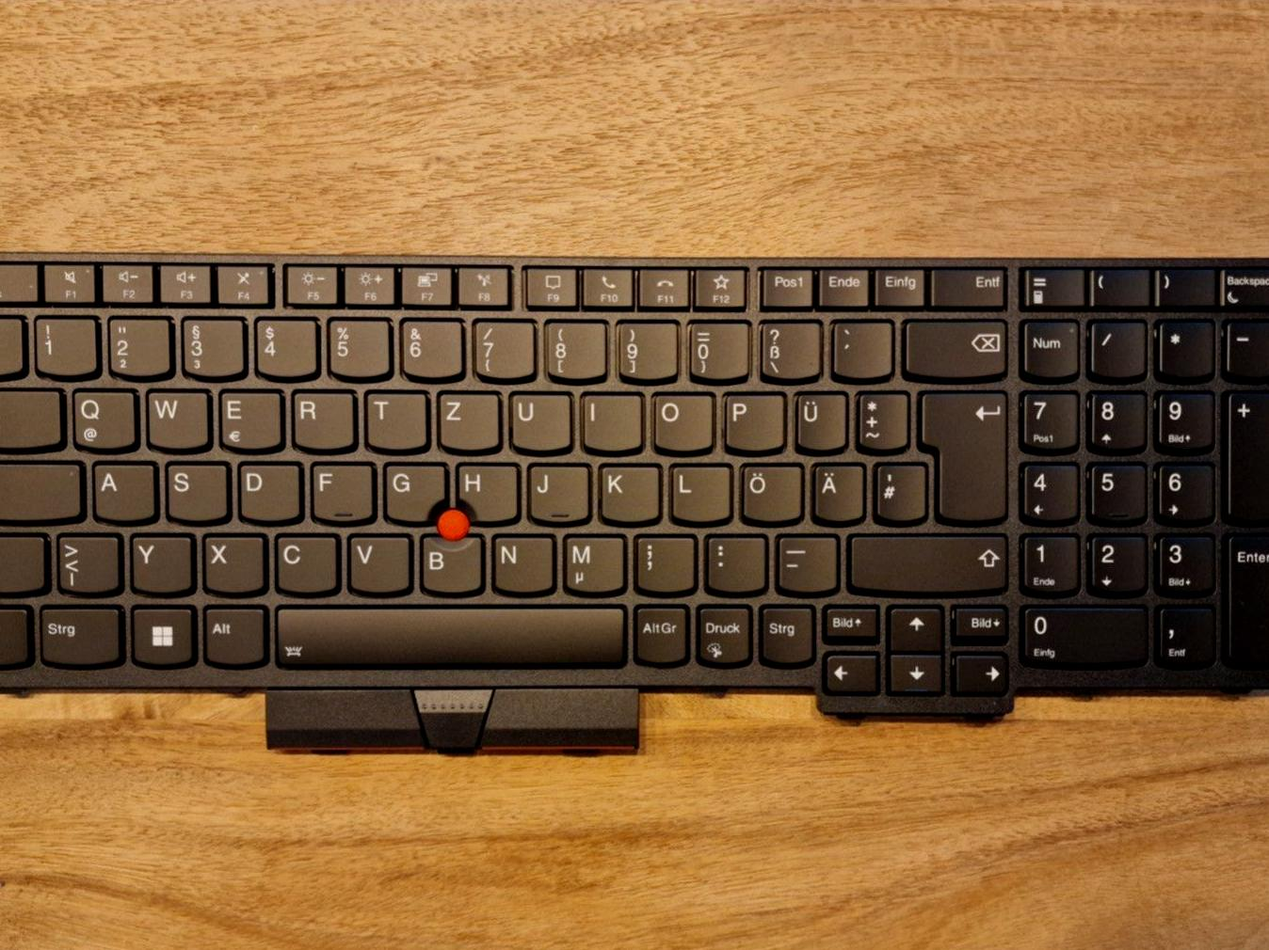0: (683, 316, 747, 379)
1: (31, 311, 96, 374)
2: (104, 312, 169, 375)
3: (177, 312, 244, 376)
4: (251, 313, 316, 375)
5: (324, 314, 390, 376)
6: (396, 314, 461, 377)
7: (471, 315, 534, 378)
8: (540, 316, 604, 379)
9: (612, 316, 677, 379)
a: (88, 457, 155, 520)
accent: (827, 315, 891, 377)
ae: (808, 458, 862, 520)
alt-left: (199, 601, 265, 664)
altgr-right: (631, 601, 687, 663)
b: (416, 530, 481, 592)
c: (270, 530, 337, 593)
caret: (1, 311, 33, 373)
comma: (631, 530, 694, 592)
d: (233, 458, 299, 521)
del: (901, 314, 1008, 378)
e: (215, 386, 281, 449)
enter: (915, 385, 1007, 522)
f: (307, 457, 373, 520)
g: (380, 458, 443, 520)
h: (452, 458, 517, 519)
hash: (870, 458, 924, 520)
i: (578, 388, 640, 451)
j: (524, 458, 587, 521)
k: (595, 459, 659, 521)
keyboard: (1, 248, 1269, 752)
l: (667, 459, 729, 521)
less: (53, 529, 120, 592)
m: (558, 530, 624, 593)
minus: (771, 530, 837, 591)
n: (489, 530, 553, 592)
o: (648, 388, 712, 451)
oe: (736, 459, 801, 522)
p: (719, 388, 783, 451)
plus: (852, 386, 907, 450)
point: (701, 530, 765, 591)
q: (67, 384, 136, 449)
r: (287, 386, 354, 450)
s: (161, 458, 228, 521)
shift-left: (1, 530, 44, 592)
shift-lock: (1, 457, 82, 520)
shift-right: (845, 529, 1008, 592)
space: (271, 600, 625, 665)
ss: (755, 316, 819, 378)
strg-left: (34, 602, 120, 665)
strg-right: (756, 601, 813, 664)
t: (361, 386, 426, 450)
tab: (1, 385, 60, 448)
u: (506, 388, 570, 451)
ue: (790, 387, 845, 451)
v: (345, 530, 409, 592)
w: (142, 385, 208, 449)
x: (200, 530, 264, 593)
y: (127, 530, 192, 593)
z: (434, 387, 499, 451)
